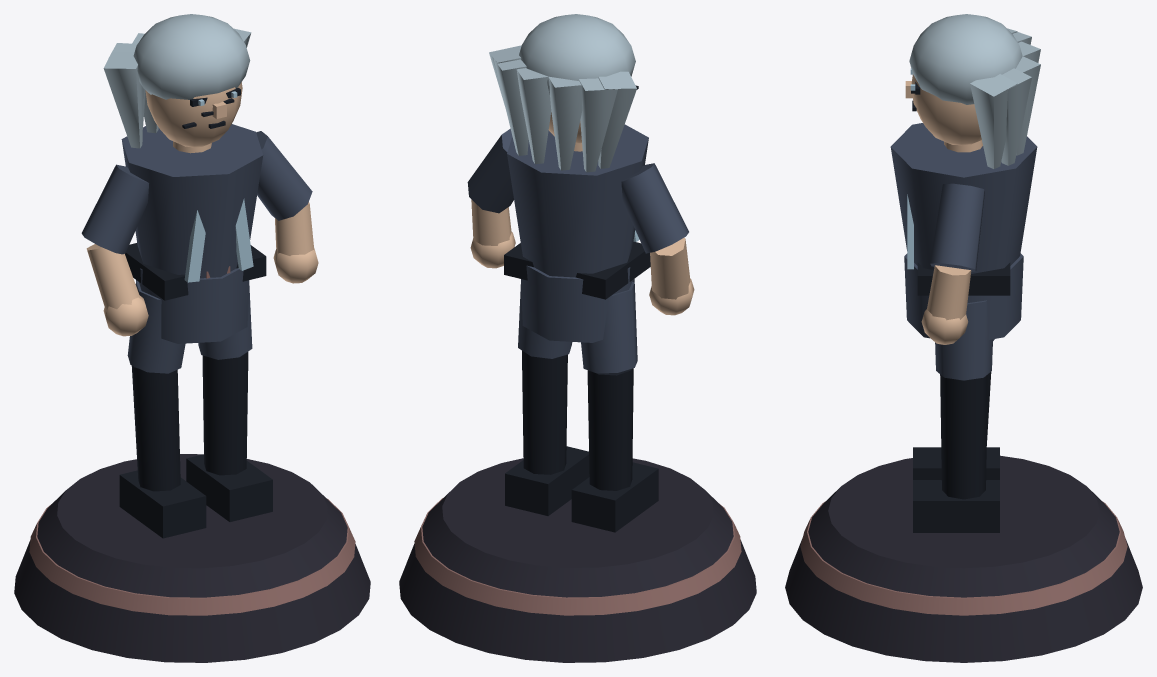
File: mahito.glb
The picture shows the model from 3 angles, left to right: view 1: azimuth 30°, elevation 25°; view 2: azimuth 150°, elevation 25°; view 3: azimuth 270°, elevation 25°; orthographic projection.
Parts seen in each view (by area): view 1: Placeholder Mahito; view 2: Placeholder Mahito; view 3: Placeholder Mahito.
Part boxes in pixels (left/top/right/bottom): Placeholder Mahito: left=14, top=14, right=370, bottom=662; Placeholder Mahito: left=399, top=14, right=756, bottom=662; Placeholder Mahito: left=785, top=14, right=1142, bottom=662.
Size of the model in its own units: 0.54 by 0.9438 by 0.54.
